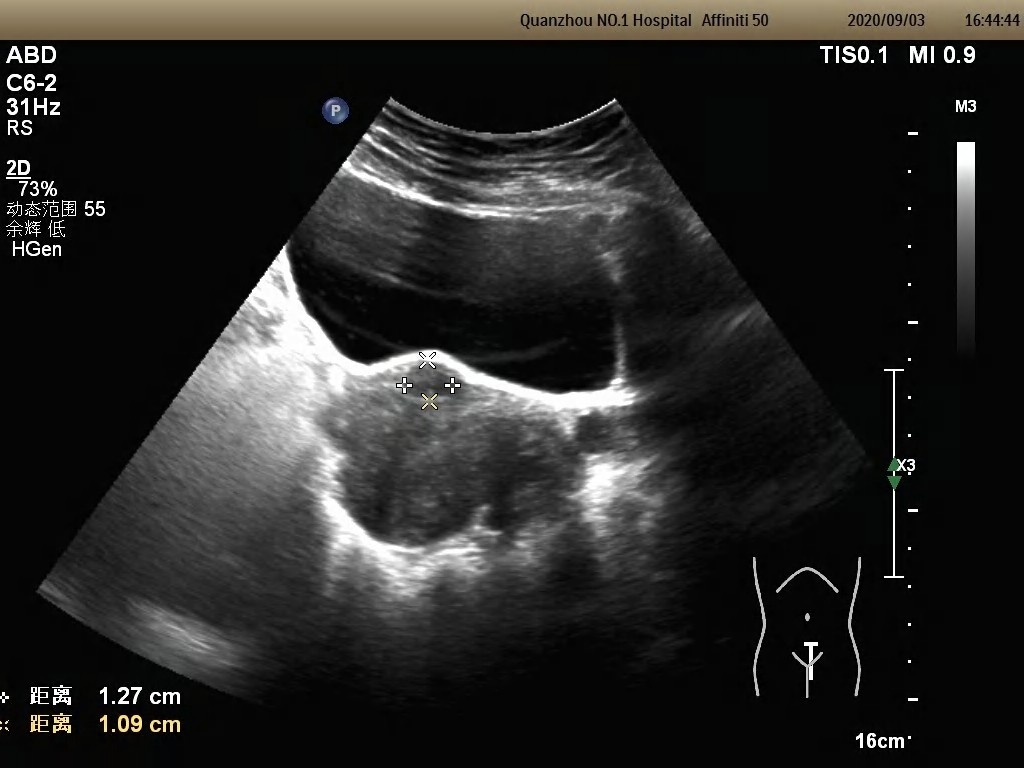肌瘤: (406, 363, 457, 400)
